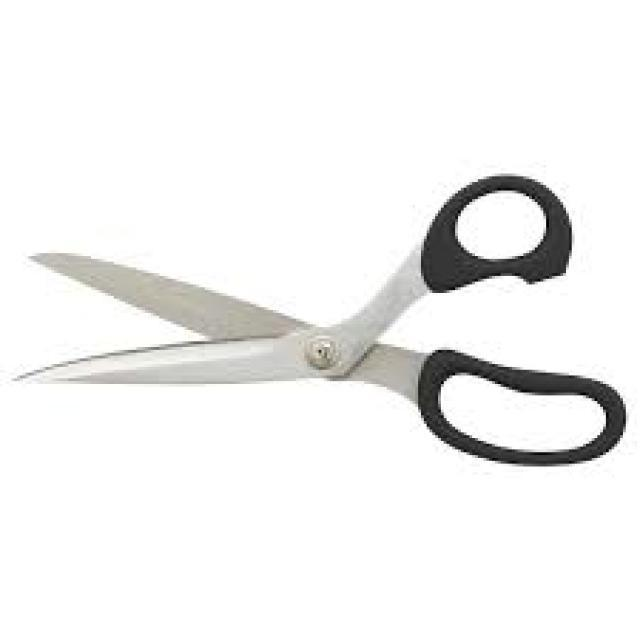tesoura: (16, 176, 640, 495)
